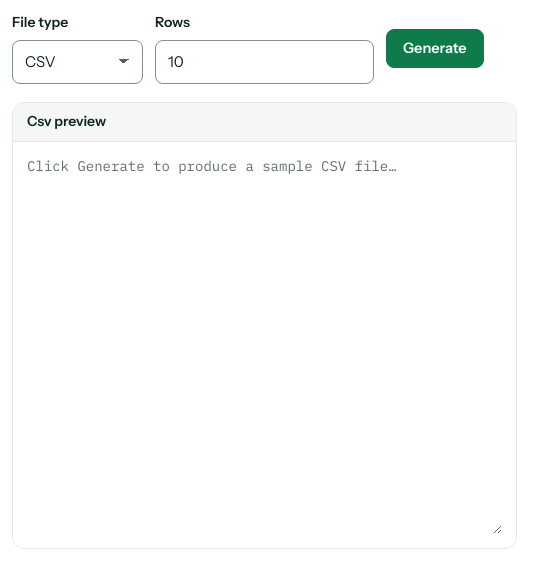
Test: FileGenerators › generates non-empty CSV content
Step 1. Click the button "Generate" → (435, 48), box [386,29,484,68]
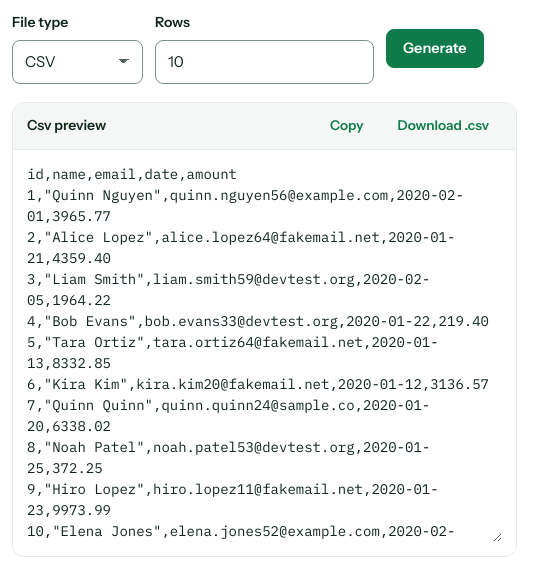
Expected: the text box is not empty, [27,164,502,542]
